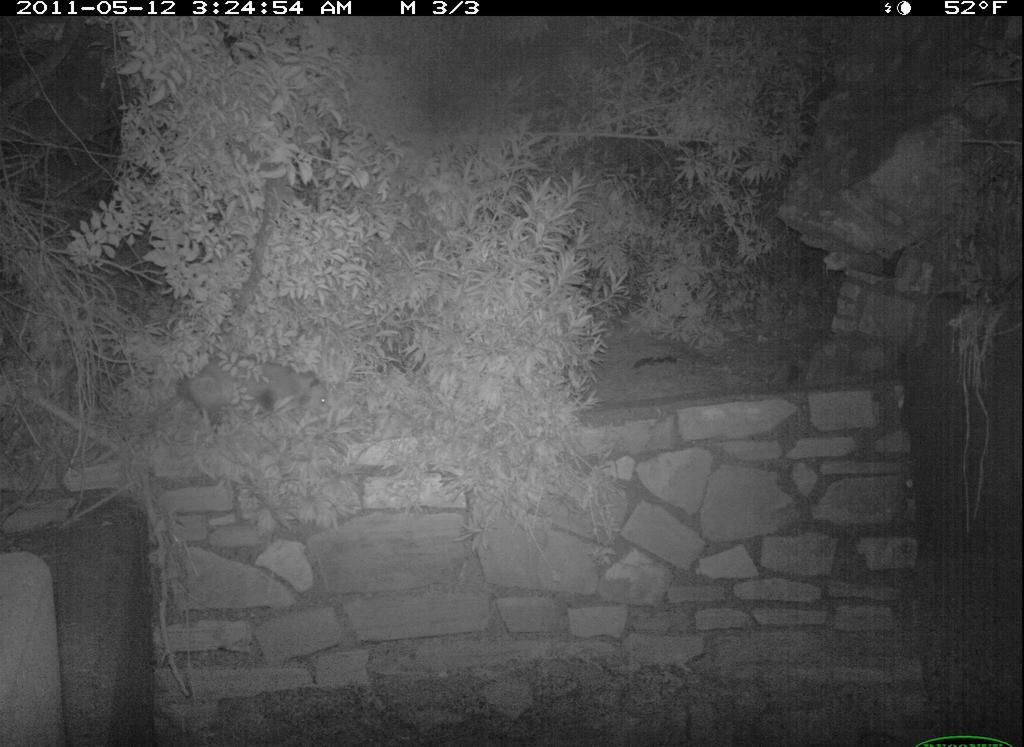opossum: (182, 351, 332, 441)
